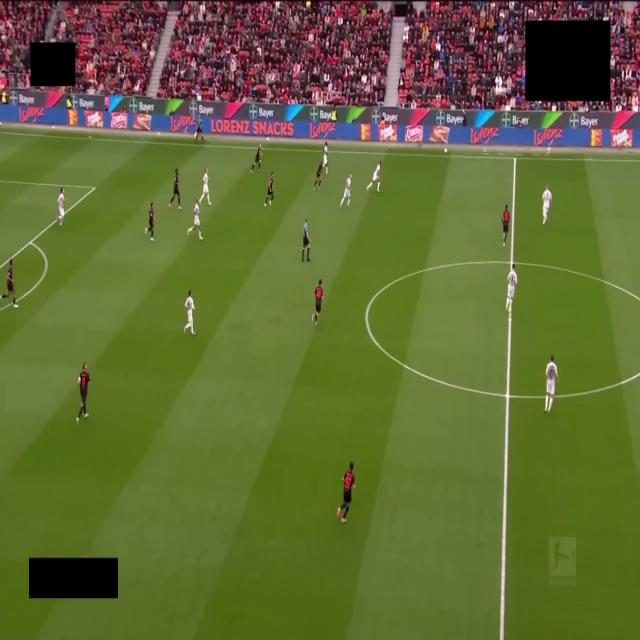ball: (444, 148, 447, 153)
player: (337, 462, 355, 523), (76, 363, 90, 422), (2, 259, 18, 308), (545, 355, 558, 412), (188, 200, 203, 240), (506, 264, 517, 313), (312, 280, 323, 326), (169, 169, 181, 210), (199, 168, 211, 206), (184, 290, 194, 335), (367, 160, 381, 191), (340, 174, 351, 208), (542, 187, 552, 224), (145, 202, 154, 241), (502, 205, 510, 246), (250, 144, 261, 173), (264, 172, 273, 207), (313, 163, 323, 190), (57, 188, 64, 226), (323, 142, 327, 174)
referee: (302, 219, 310, 262)
